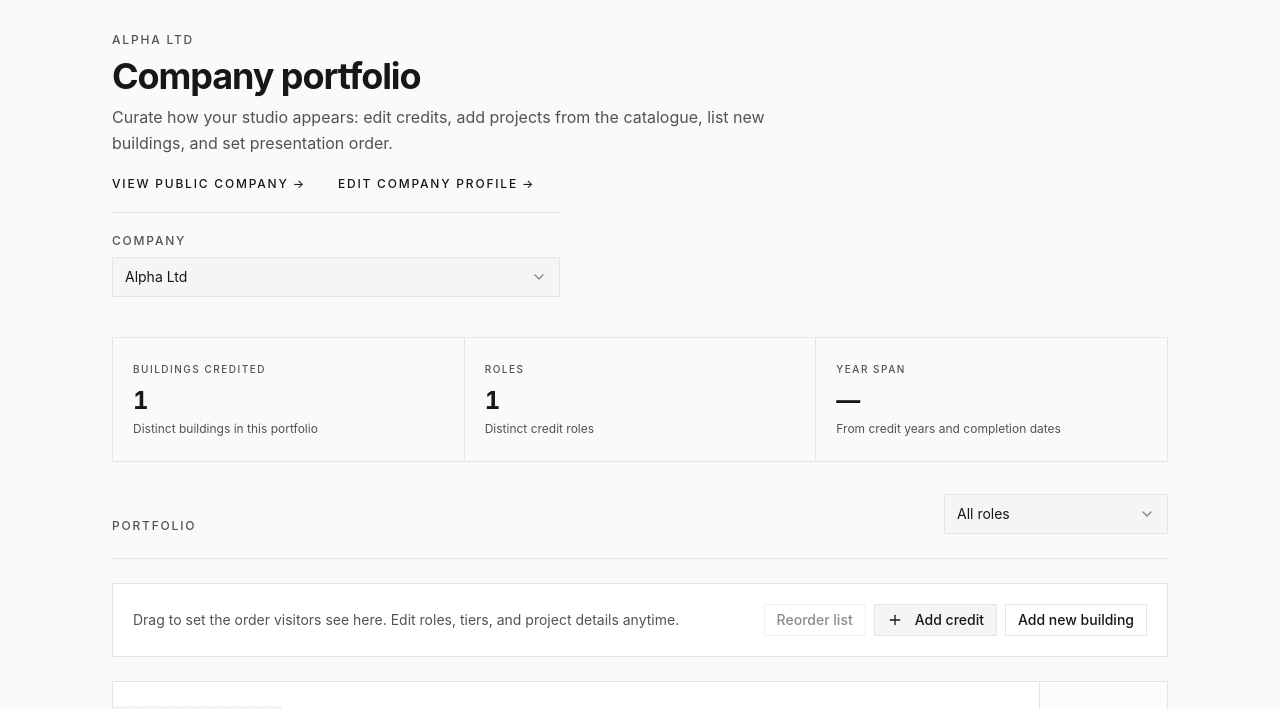
CompanyDashboard (QA 9.2) › renders company picker when user stewards multiple companies
Click the dropdown named "select company" at point(156, 276), box [112,257,560,297]
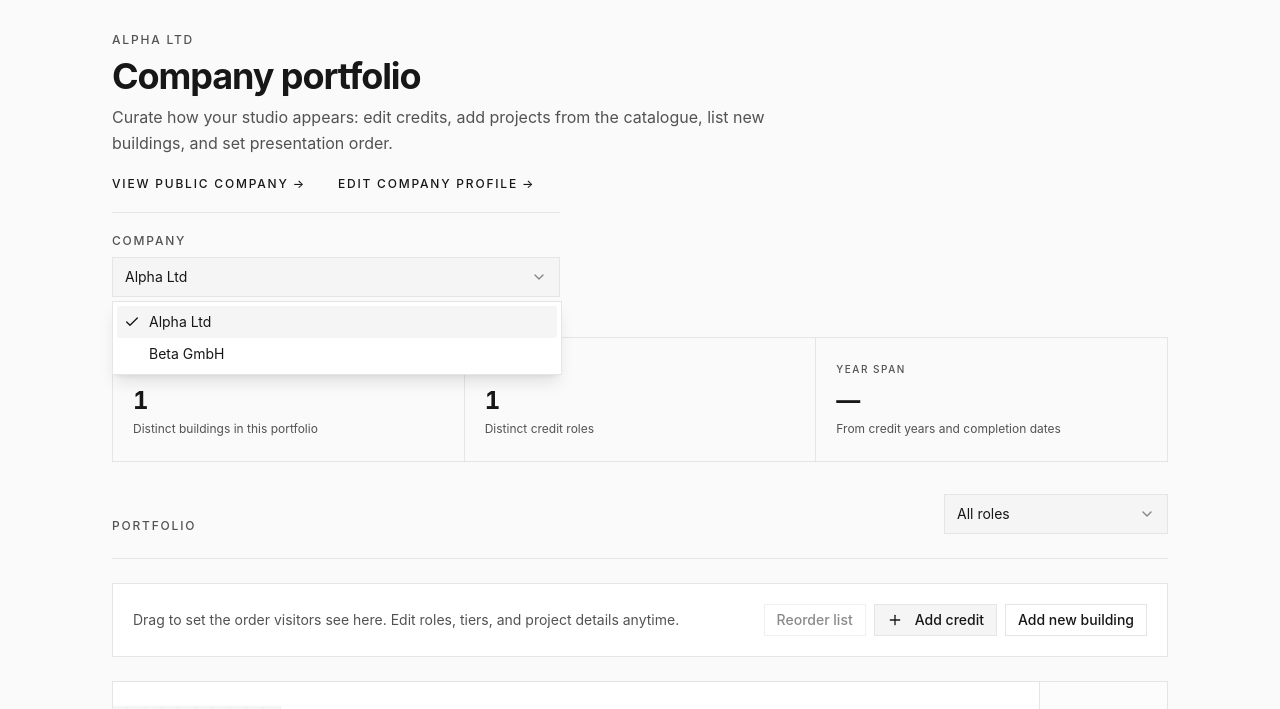
Click the option "Beta GmbH" at point(187, 354), box [149,345,224,362]
(page scrolled)
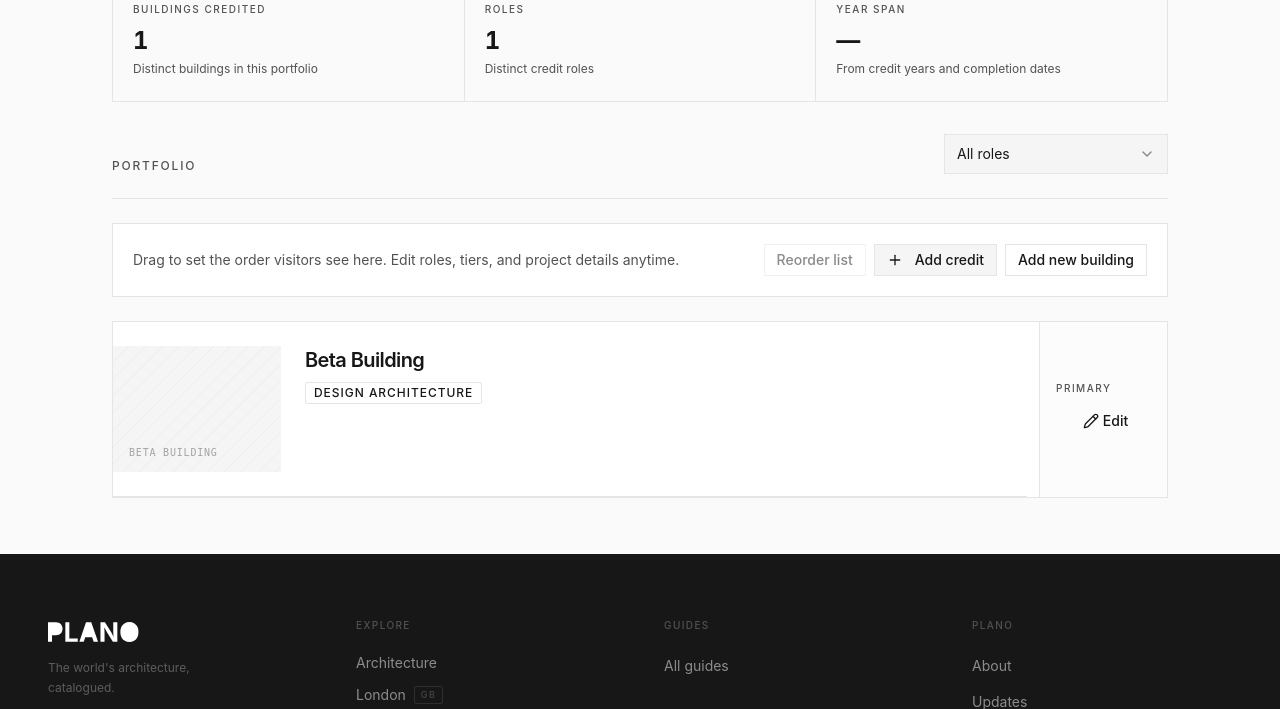
Check: the link "Beta Building" is shown, box [305,348,424,372]
